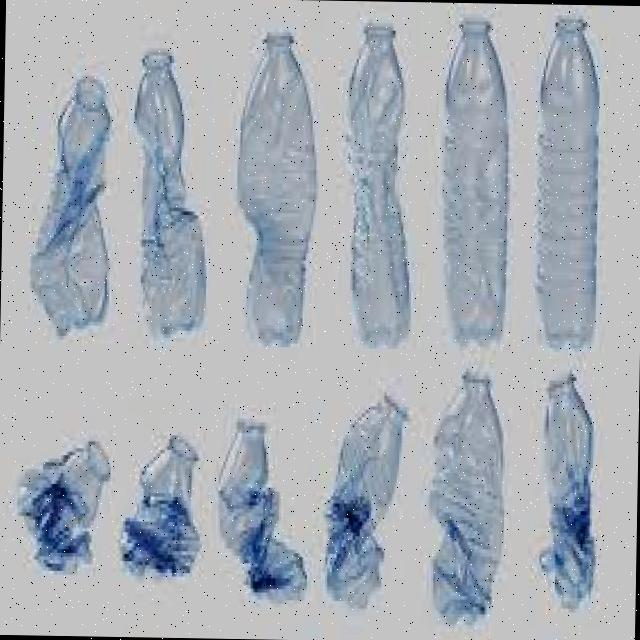bottle: (220, 24, 328, 348), (424, 11, 518, 346), (524, 8, 610, 364), (332, 3, 418, 352), (24, 66, 125, 340), (416, 362, 516, 631), (126, 40, 212, 348), (315, 376, 418, 614), (211, 398, 308, 626), (524, 360, 608, 619), (120, 420, 208, 606), (12, 441, 114, 586)
